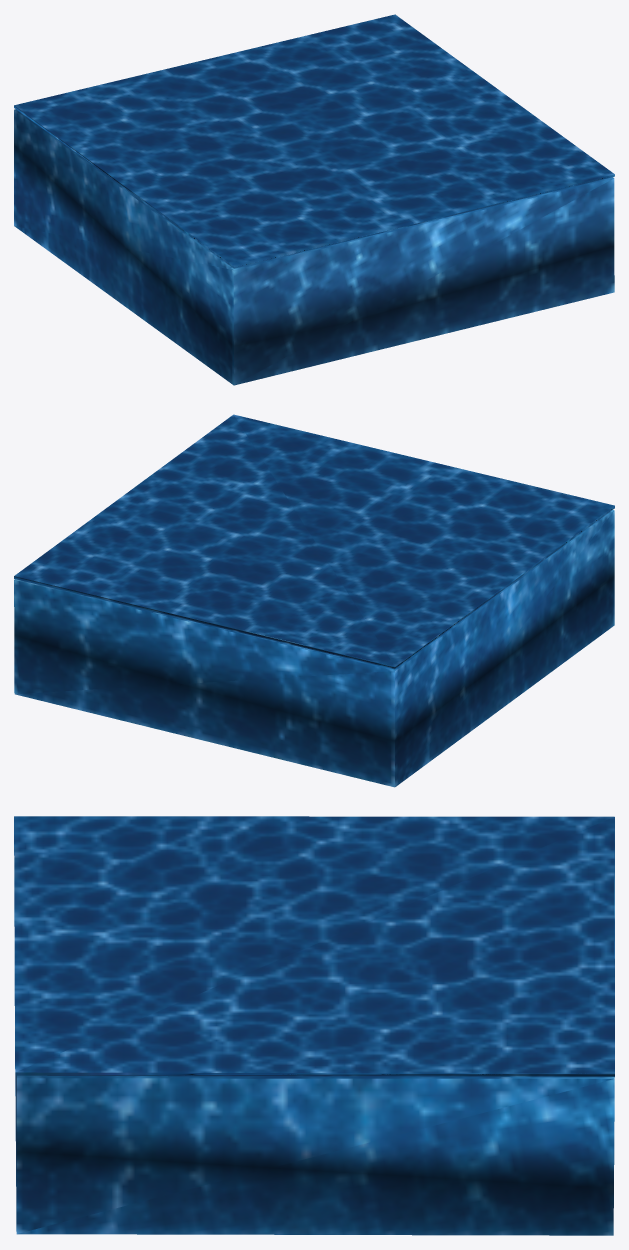
The model's file is Meshy_AI_Sapphire_Water_Block_1025143846_texture.glb.
The picture shows the model from 3 angles, top to bottom: view 1: azimuth 30°, elevation 25°; view 2: azimuth 150°, elevation 25°; view 3: azimuth 270°, elevation 25°; orthographic projection. The views are drawn at different scales.
Size of the model in its own units: 3.29 by 1 by 3.29.
Materials: 1 (1 with a texture image).
